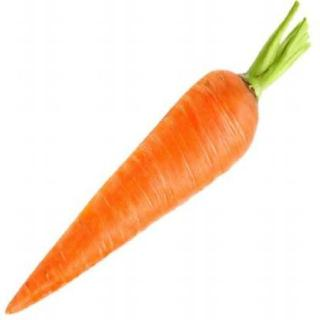carrot: (6, 63, 262, 315)
